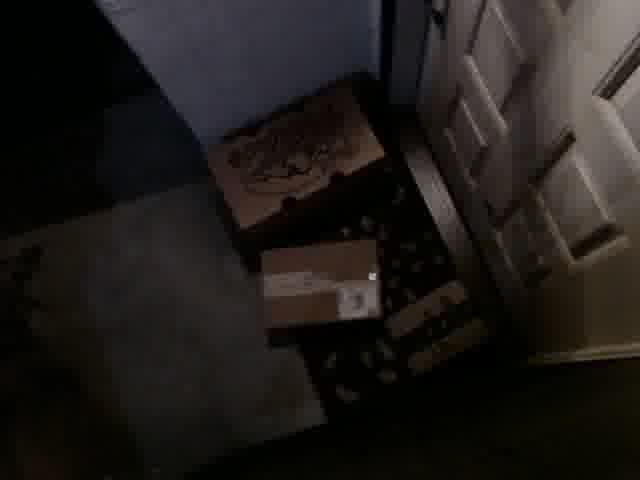box: (203, 78, 388, 232), (257, 242, 384, 336), (381, 280, 496, 378)
